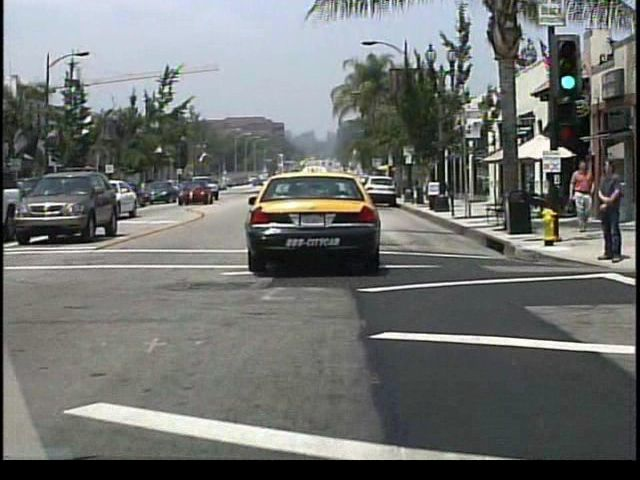person: (599, 157, 624, 266), (570, 159, 595, 232)
